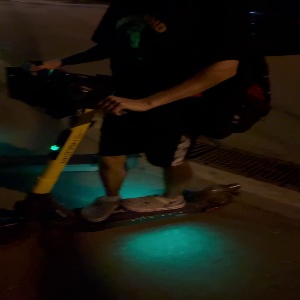human on a scooter: (1, 1, 274, 247)
